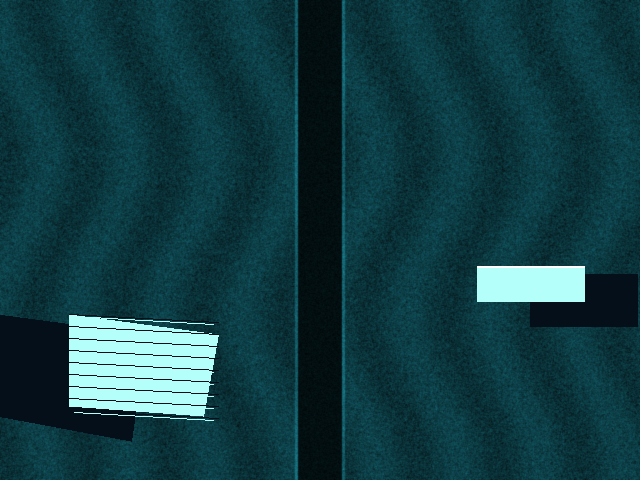Fishing Gear: (69, 314, 218, 416)
Metal Debris: (477, 266, 584, 301)
